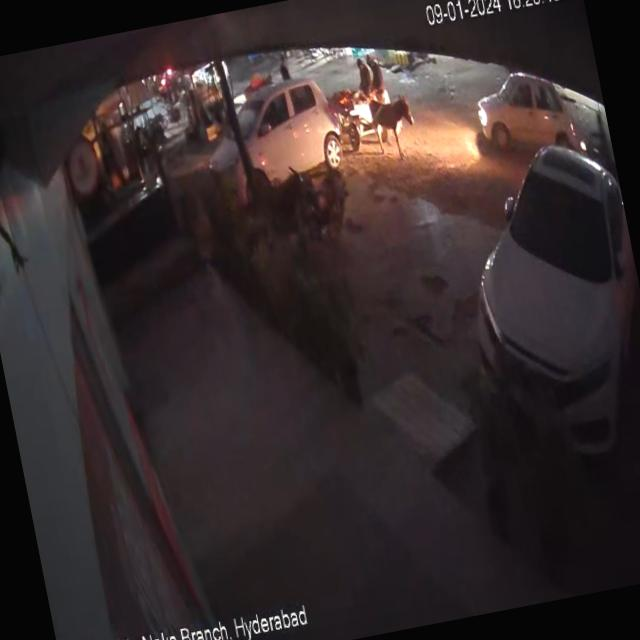Car: (432, 90, 640, 486), (174, 59, 352, 204), (474, 69, 578, 154)
Motorcycle: (281, 146, 362, 260)
